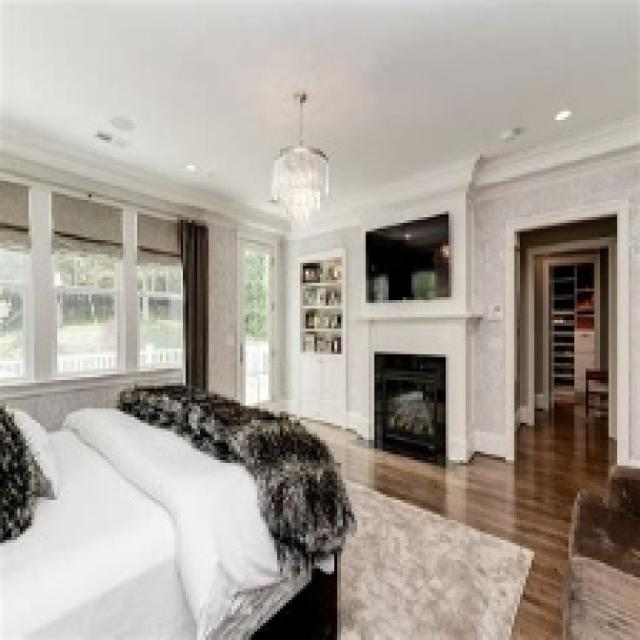Bed: (0, 382, 351, 637)
